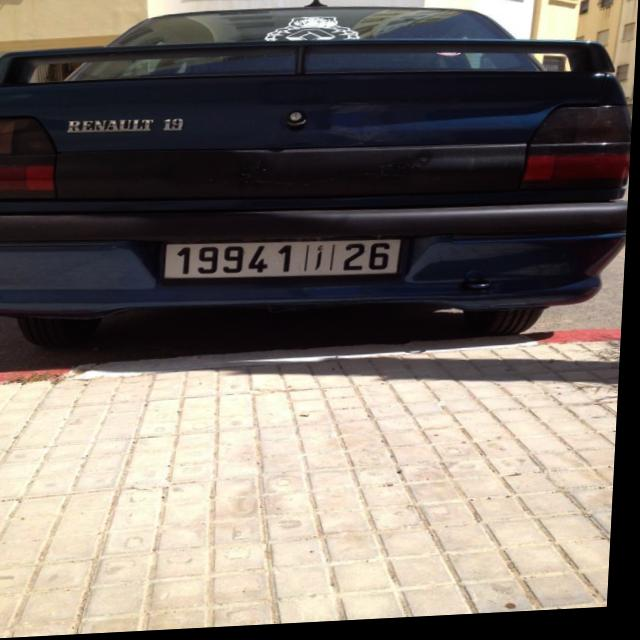License-Plate: (167, 243, 404, 281)
